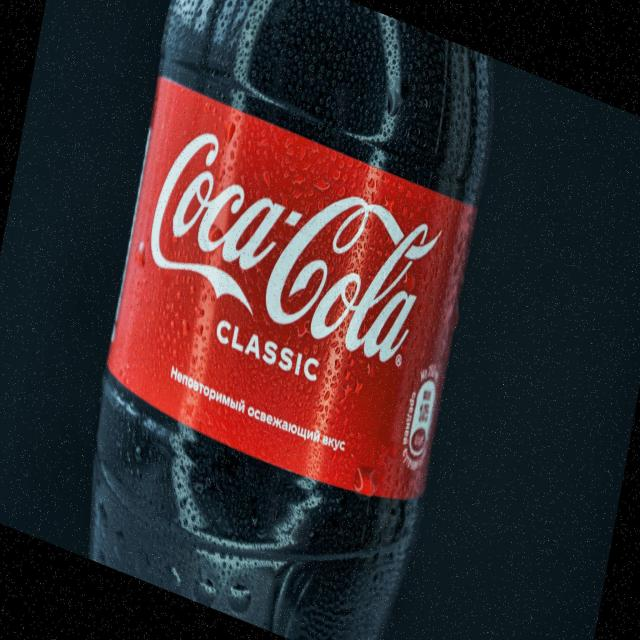coca-cola: (136, 102, 449, 394)
